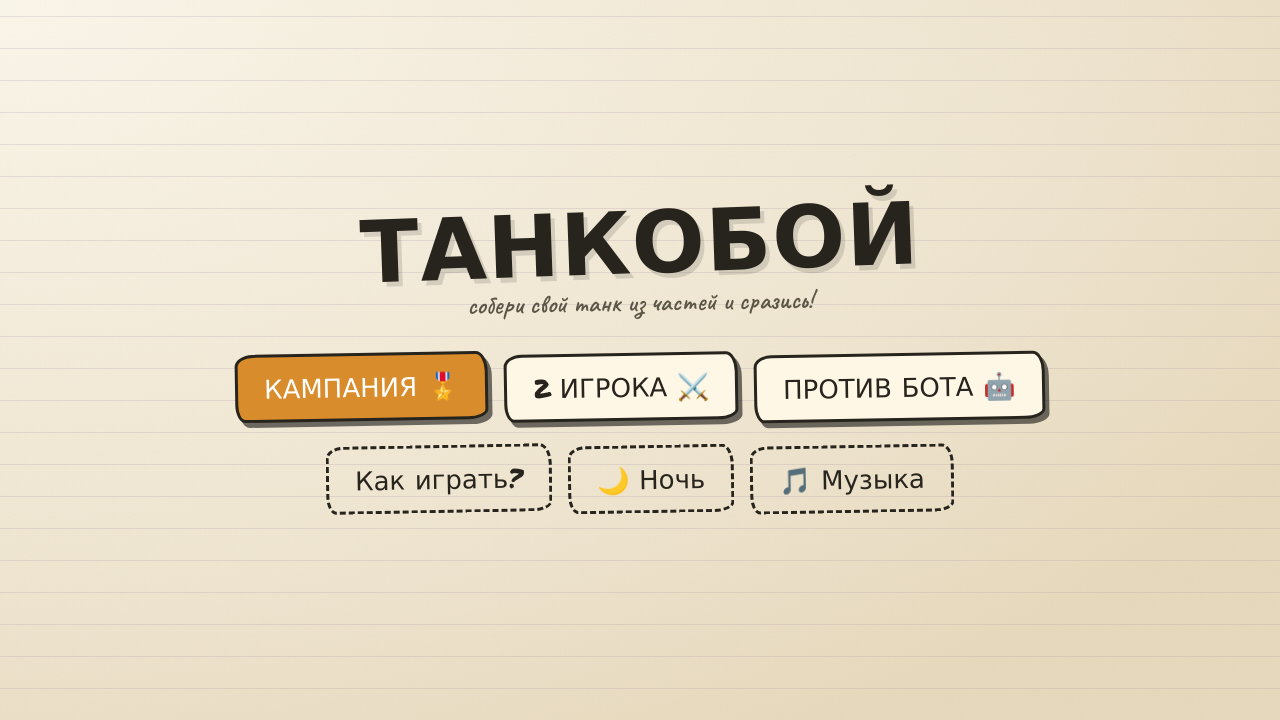
Test case: UI: кампания › кнопка КАМПАНИЯ открывает карту, вторая миссия заблокирована
Check: the element with test id "screen-title" is shown, box [234,168,1046,515]
Click the button with test id "btn-start-campaign": click(362, 387) [234,351,489,424]
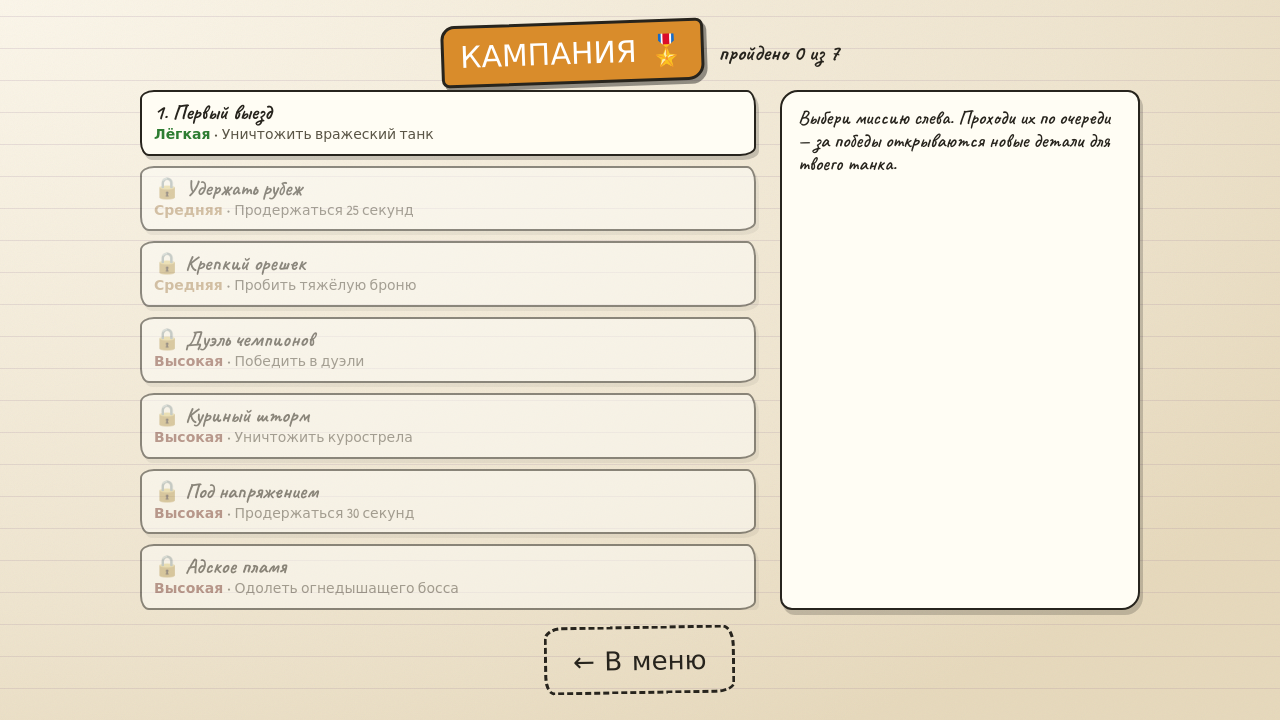
Check: the element with test id "screen-campaign" is shown
